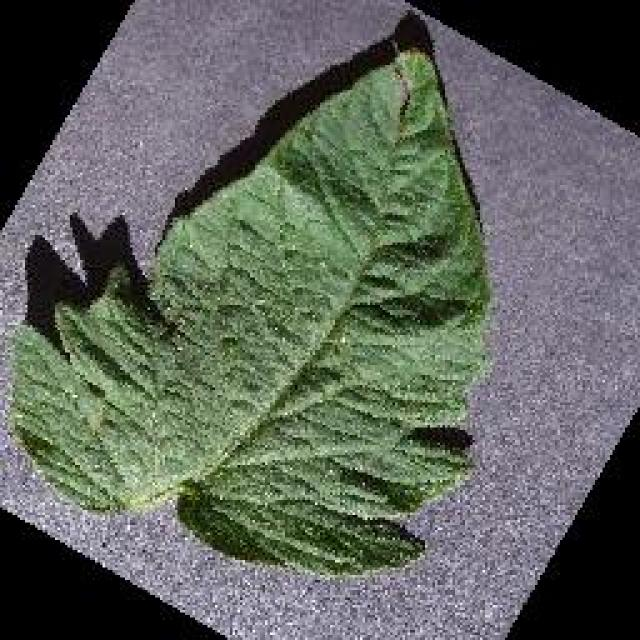Tomato___healthy: (5, 49, 491, 583)
